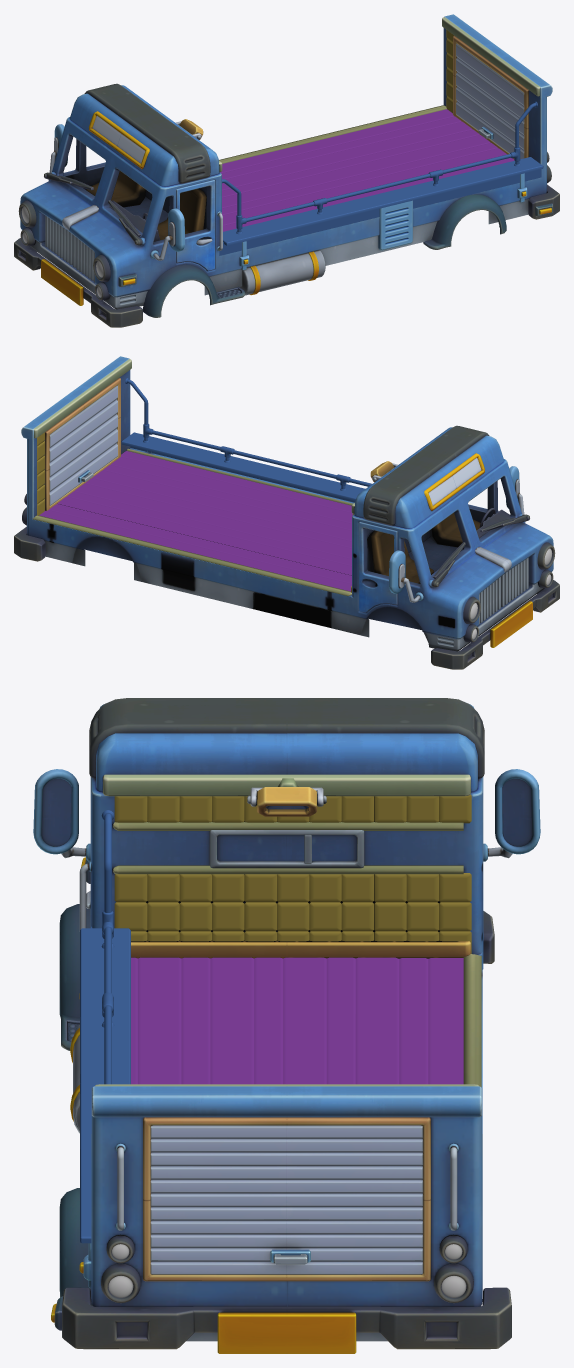
File: m_lorry_van_front_01.fbx
The picture shows the model from 3 angles, top to bottom: view 1: azimuth 30°, elevation 25°; view 2: azimuth 150°, elevation 25°; view 3: azimuth 270°, elevation 25°; orthographic projection. The views are drawn at different scales.
Visible parts, largest first — view 1: m_lorry_van_front_01; view 2: m_lorry_van_front_01; view 3: m_lorry_van_front_01.
Part boxes in pixels (box(x1,y1,x2,y2)): m_lorry_van_front_01: box(14, 14, 559, 327); m_lorry_van_front_01: box(14, 356, 559, 669); m_lorry_van_front_01: box(33, 698, 540, 1353).
Bounding box in the file's own units: 15.48 × 5.18 × 7.59.
